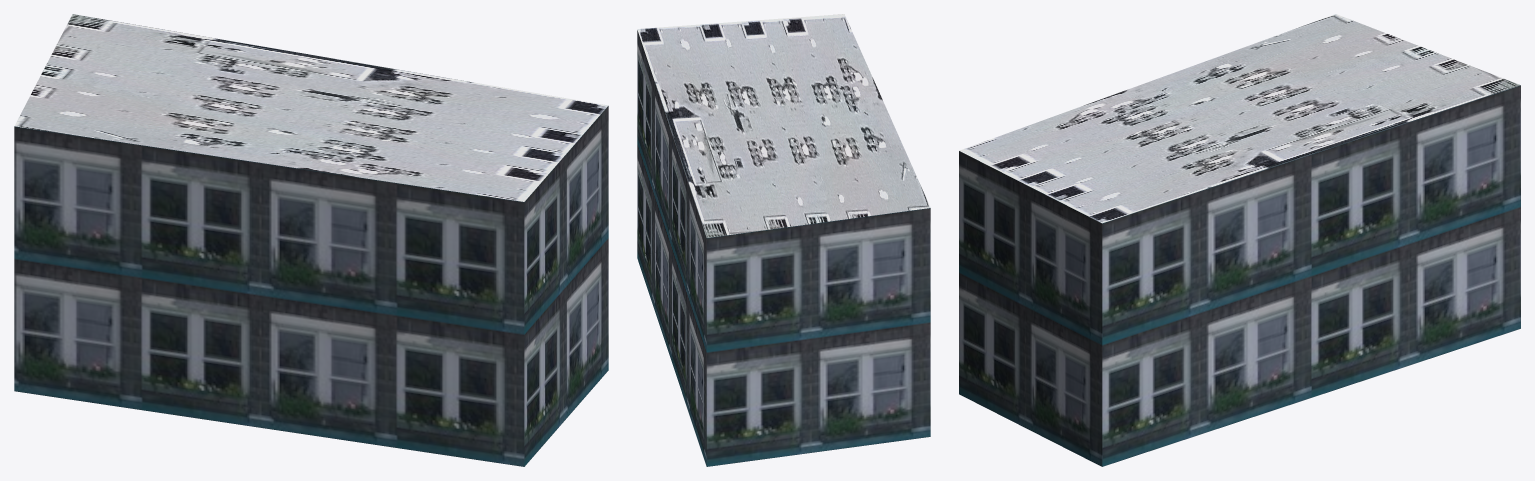
Rendered from ResTex__1304.fbx.
The picture shows the model from 3 angles, left to right: view 1: azimuth 30°, elevation 25°; view 2: azimuth 150°, elevation 25°; view 3: azimuth 270°, elevation 25°; orthographic projection. The views are drawn at different scales.
Visible parts, largest first — view 1: CityEngineMaterial_11_m, CityEngineMaterial_m; view 2: CityEngineMaterial_11_m, CityEngineMaterial_m; view 3: CityEngineMaterial_11_m, CityEngineMaterial_m.
Part boxes in pixels (x1,y1,x2,y2): CityEngineMaterial_11_m: [14, 106, 608, 466]; CityEngineMaterial_m: [15, 14, 608, 201]; CityEngineMaterial_11_m: [637, 30, 930, 466]; CityEngineMaterial_m: [637, 14, 930, 237]; CityEngineMaterial_11_m: [959, 85, 1520, 466]; CityEngineMaterial_m: [959, 14, 1520, 223].
Size of the model in its own units: 11.07 by 6 by 12.55.
Materials: 2 (2 with a texture image).
